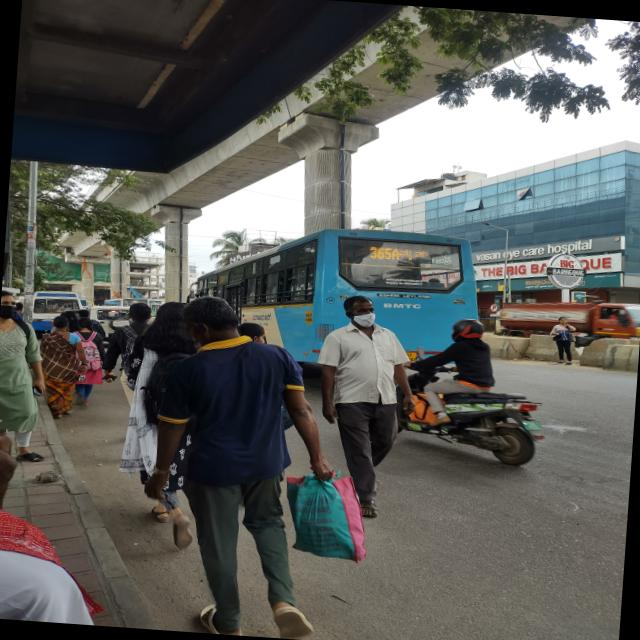bus: (188, 207, 485, 366)
display: (368, 244, 432, 264)
dnumber: (370, 246, 400, 262)
